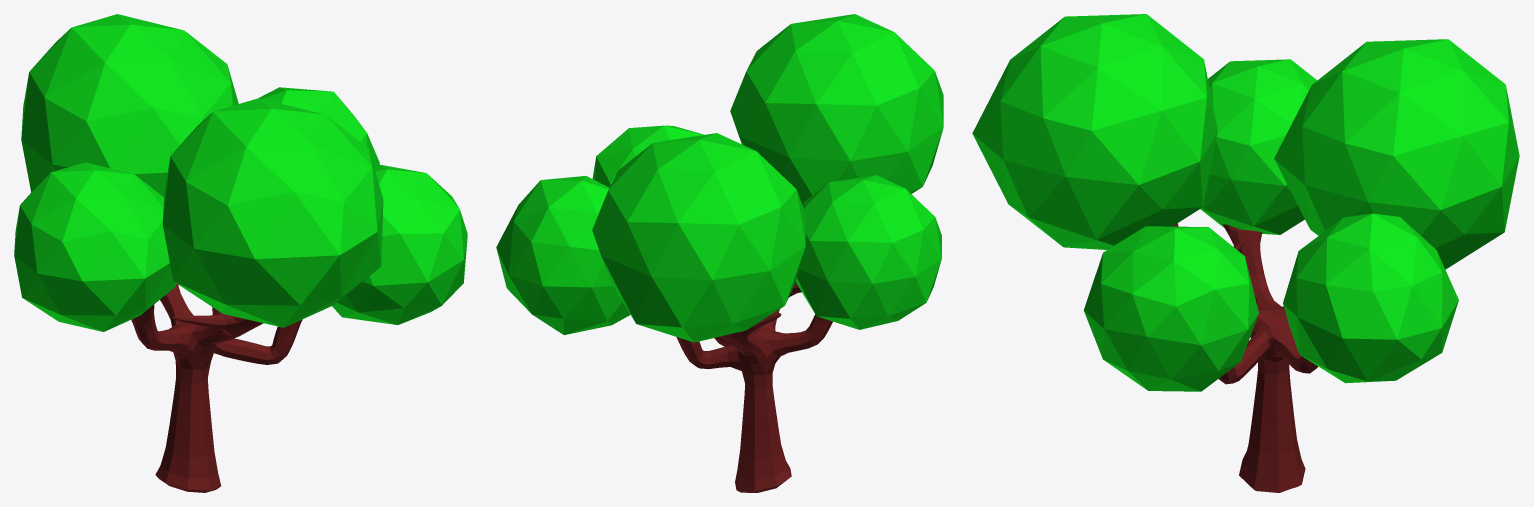
The model's file is tree.fbx.
3 renders of one model, left to right at view 1: azimuth 30°, elevation 25°; view 2: azimuth 150°, elevation 25°; view 3: azimuth 270°, elevation 25°, orthographic. The views are drawn at different scales.
Parts seen in each view (by area): view 1: Икосфера.003, Икосфера, Икосфера.004, Икосфера.001, Плоскость, Икосфера.002; view 2: Икосфера, Икосфера.003, Икосфера.004, Икосфера.002, Плоскость, Икосфера.001; view 3: Икосфера.003, Икосфера, Икосфера.001, Икосфера.002, Икосфера.004, Плоскость.
Boxes of the visible parts, bbox=[...] form: Икосфера.003: bbox=[162, 98, 383, 327]; Икосфера: bbox=[21, 14, 238, 196]; Икосфера.004: bbox=[14, 162, 175, 331]; Икосфера.001: bbox=[332, 164, 467, 324]; Плоскость: bbox=[131, 283, 302, 492]; Икосфера.002: bbox=[258, 87, 379, 166]; Икосфера: bbox=[592, 133, 805, 342]; Икосфера.003: bbox=[730, 14, 943, 204]; Икосфера.004: bbox=[796, 175, 941, 329]; Икосфера.002: bbox=[496, 176, 630, 334]; Плоскость: bbox=[676, 281, 832, 492]; Икосфера.001: bbox=[592, 125, 704, 187]; Икосфера.003: bbox=[972, 14, 1217, 249]; Икосфера: bbox=[1274, 39, 1519, 269]; Икосфера.001: bbox=[1083, 226, 1258, 391]; Икосфера.002: bbox=[1283, 213, 1458, 383]; Икосфера.004: bbox=[1200, 59, 1316, 234]; Плоскость: bbox=[1172, 223, 1318, 492].
Bounding box in the file's own units: 1012 × 1074 × 1157.
